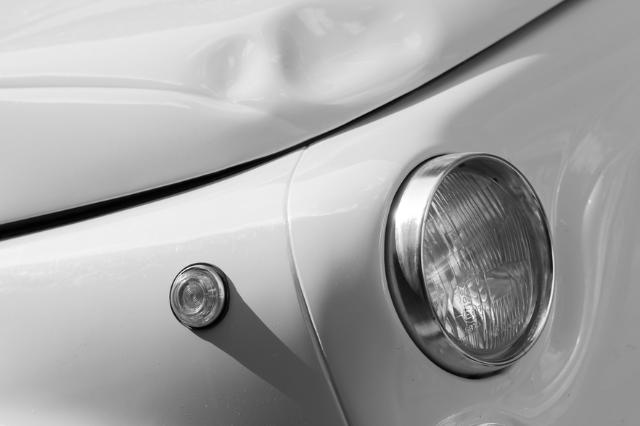Bonnet: (214, 0, 443, 131)
